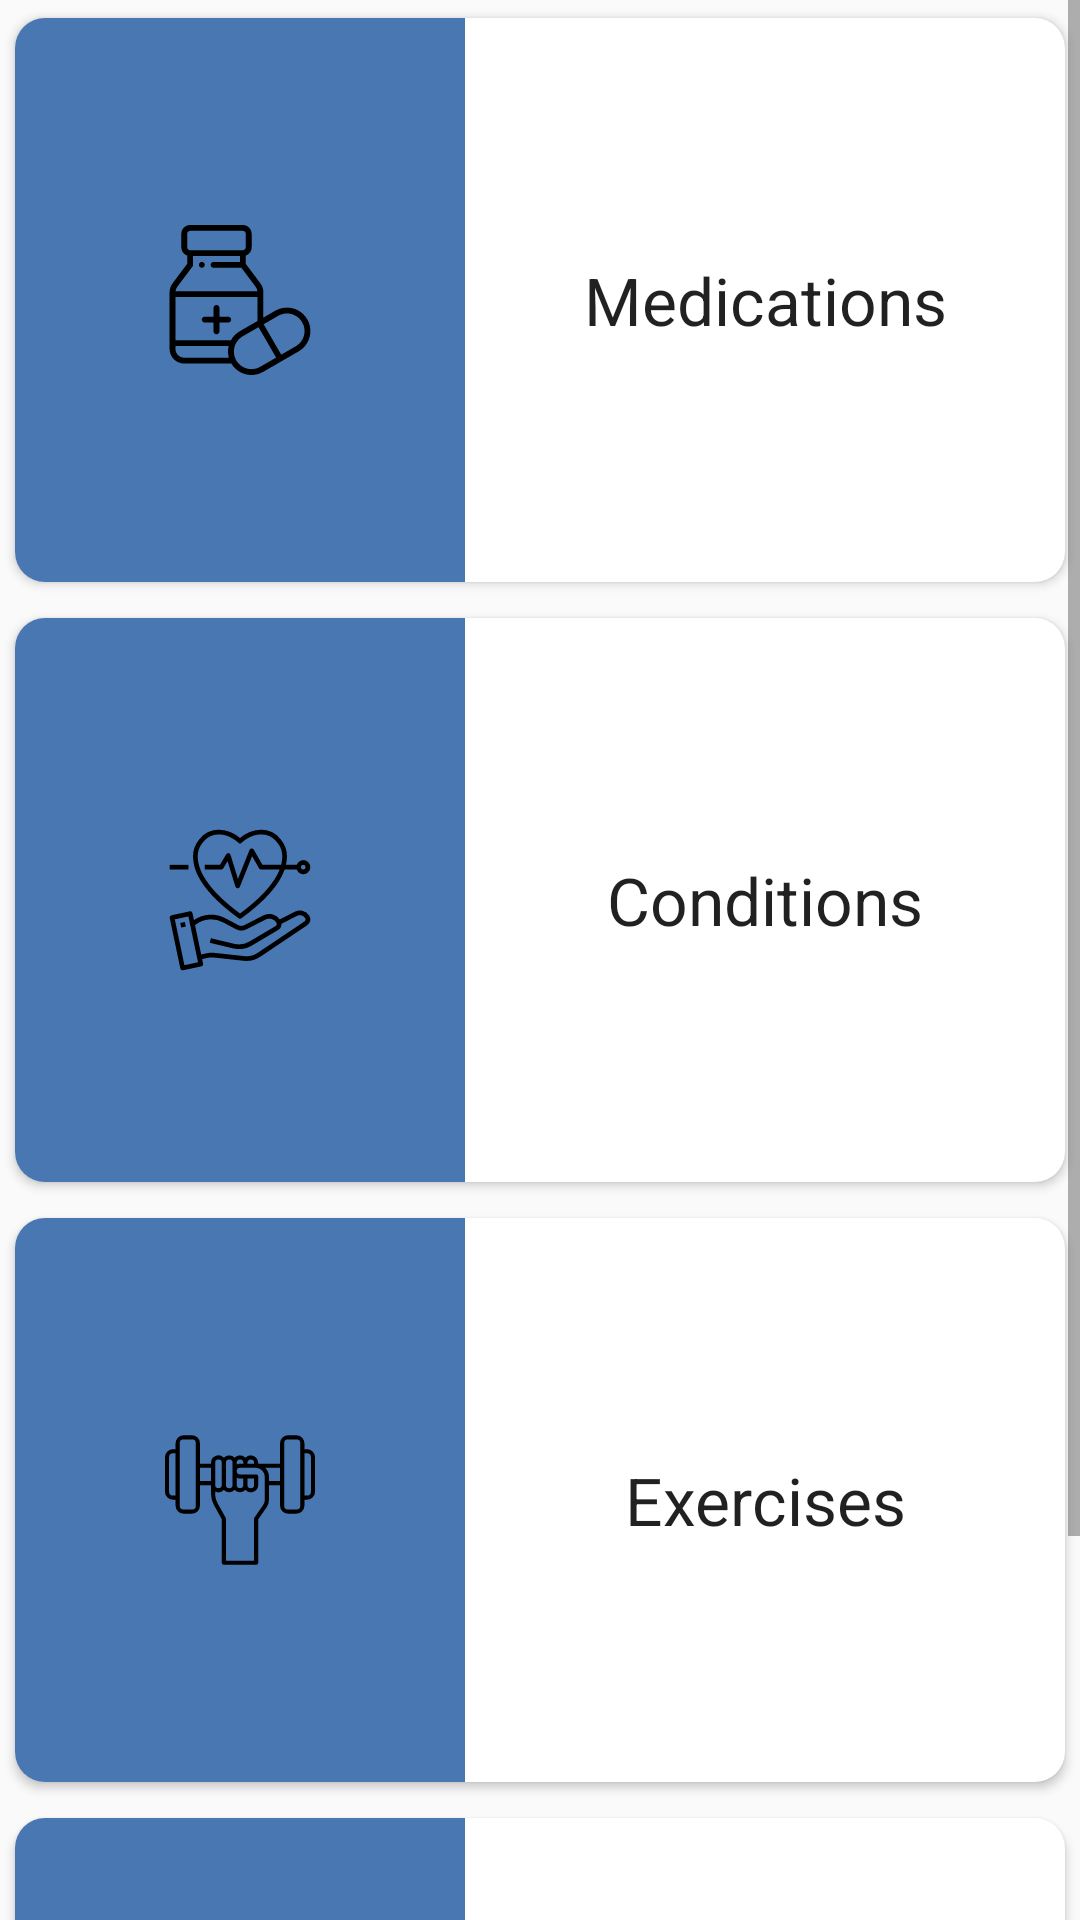

Icons on this 1080px x 1920px Android screen, each with its box as {"left": x1, "top": y1, "right": x2, "bottom": y2}:
medicine: {"left": 169, "top": 225, "right": 311, "bottom": 375}
